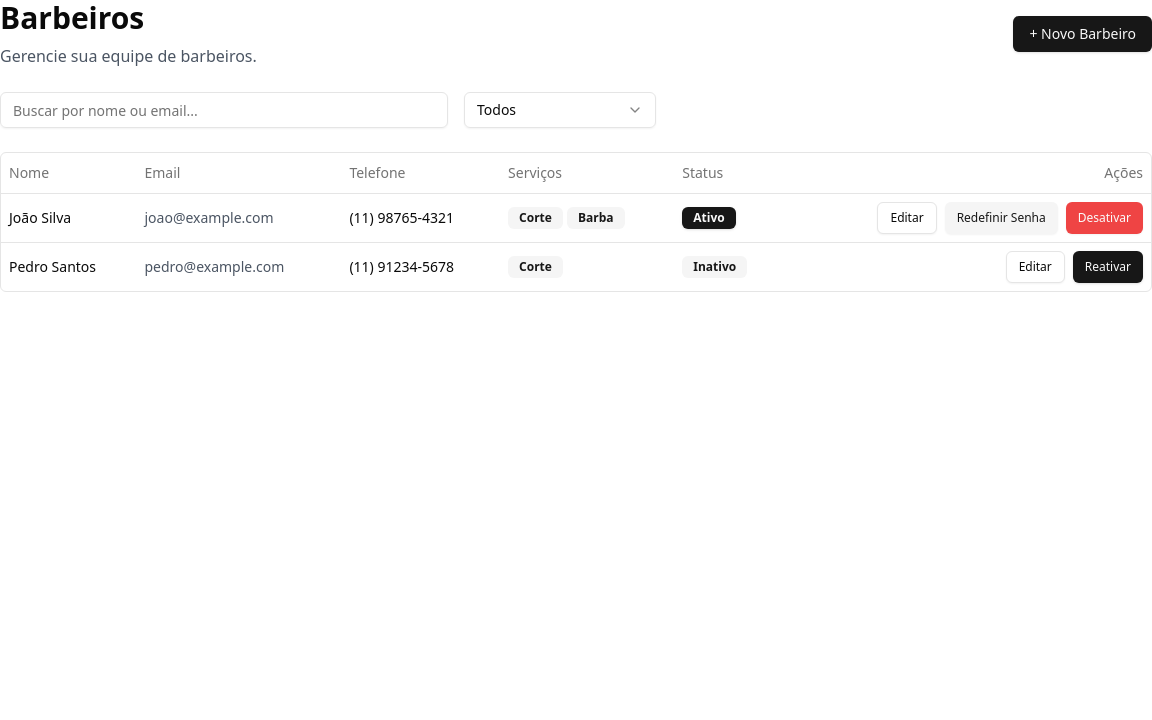
Test: BarbeirosListPage › should open deactivate confirmation modal when clicking desativar
The image size is (1152, 720).
Expected: the text "João Silva" is shown, [9,208,71,226]
What coordinates should you click on to do the following:
click the button "Desativar"
I would click on:
 (1104, 218)
Its box is [1066,202,1143,234].
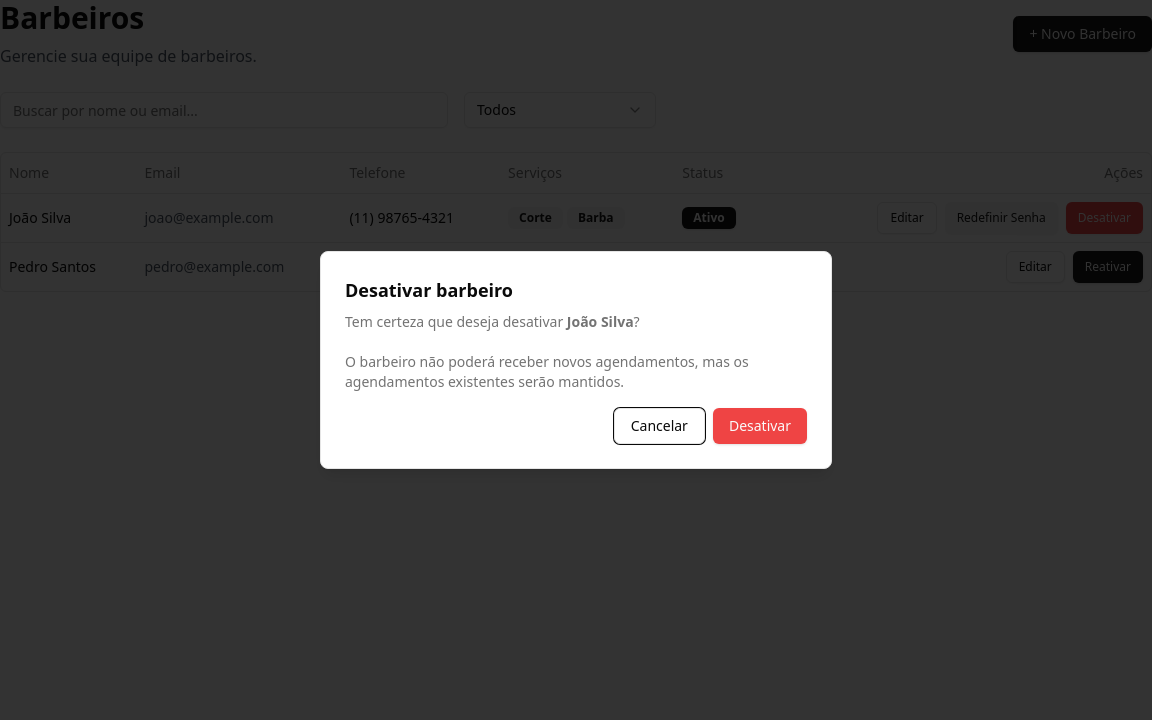
Expected: the heading "Desativar barbeiro" is shown, [345,278,513,302]
